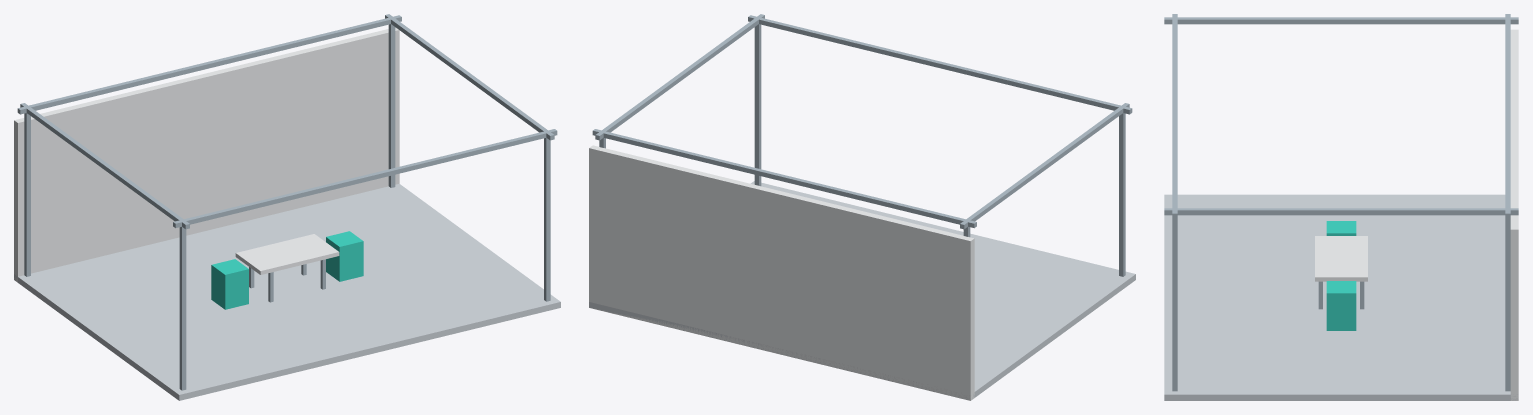
3 renders of one model, left to right at view 1: azimuth 30°, elevation 25°; view 2: azimuth 150°, elevation 25°; view 3: azimuth 270°, elevation 25°, orthographic. The views are drawn at different scales.
Visible parts, largest first — view 1: Exhibition Booth Concept; view 2: Exhibition Booth Concept; view 3: Exhibition Booth Concept.
Part boxes in pixels (<box>): Exhibition Booth Concept: <box>14,14,560,400</box>; Exhibition Booth Concept: <box>589,14,1135,400</box>; Exhibition Booth Concept: <box>1164,14,1518,400</box>.
Bounding box in the file's own units: 8 × 3.49 × 6.
